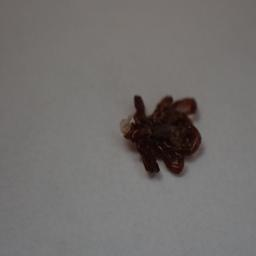Rhipicephalus sanguineus: (117, 94, 201, 174)
